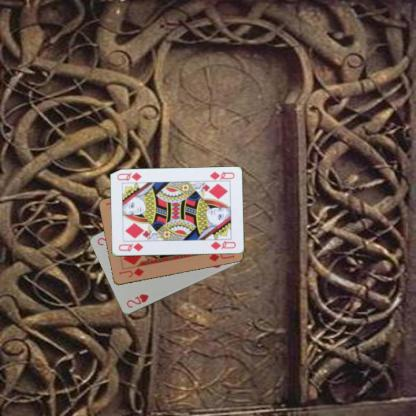2h: (124, 292, 150, 309)
Jd: (116, 266, 145, 278)
Qd: (205, 169, 235, 183), (116, 240, 145, 253)
